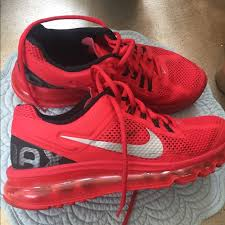nike: (48, 118, 185, 169)
